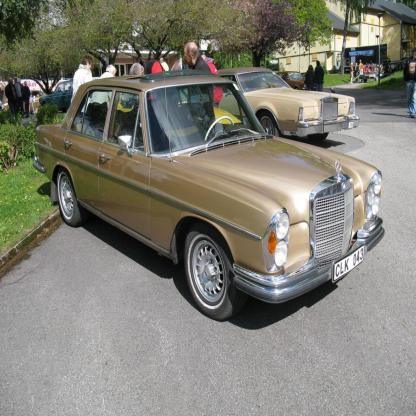Car: (31, 60, 386, 325), (211, 63, 362, 144), (40, 80, 76, 112), (1, 94, 42, 111), (281, 69, 312, 91), (361, 63, 389, 81)
